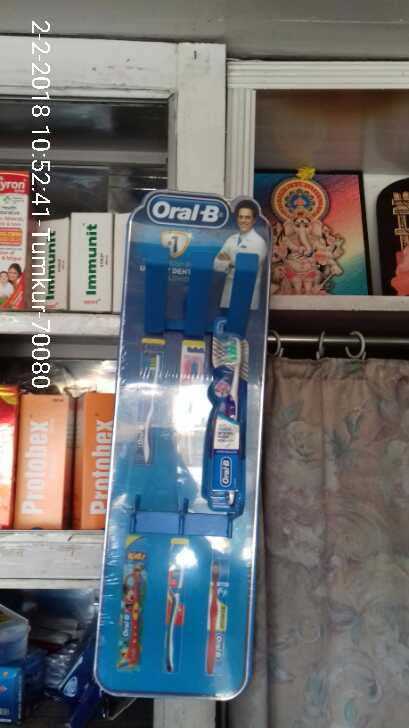oralb: (206, 333, 254, 514)
